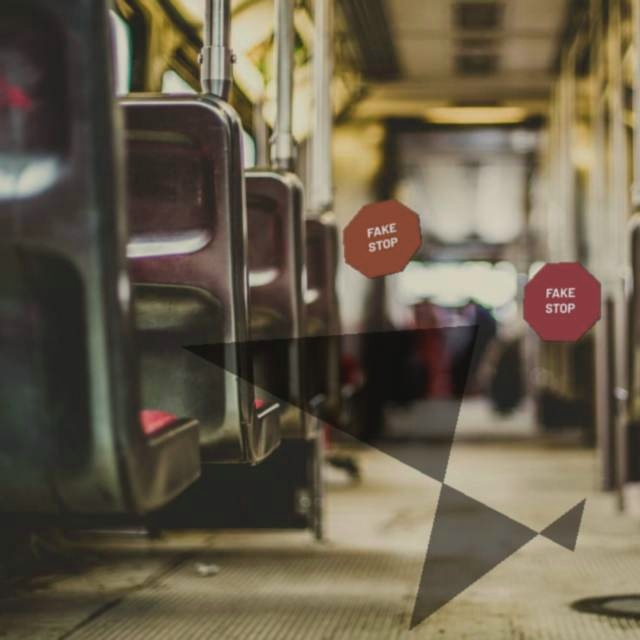FAKE_STOP: (342, 198, 422, 279), (522, 261, 601, 342)
